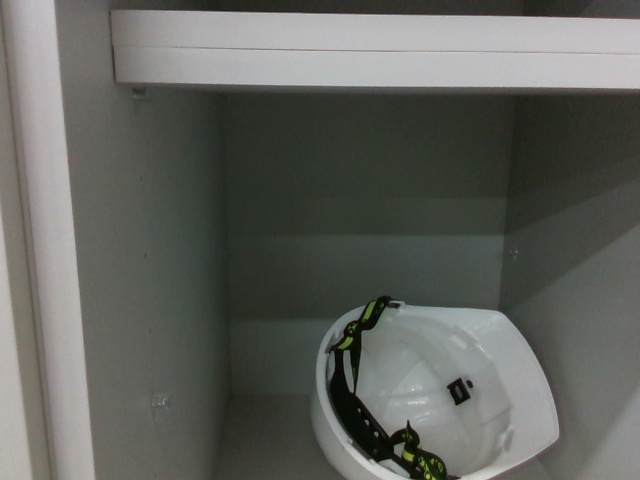helmet: (303, 286, 563, 480)
